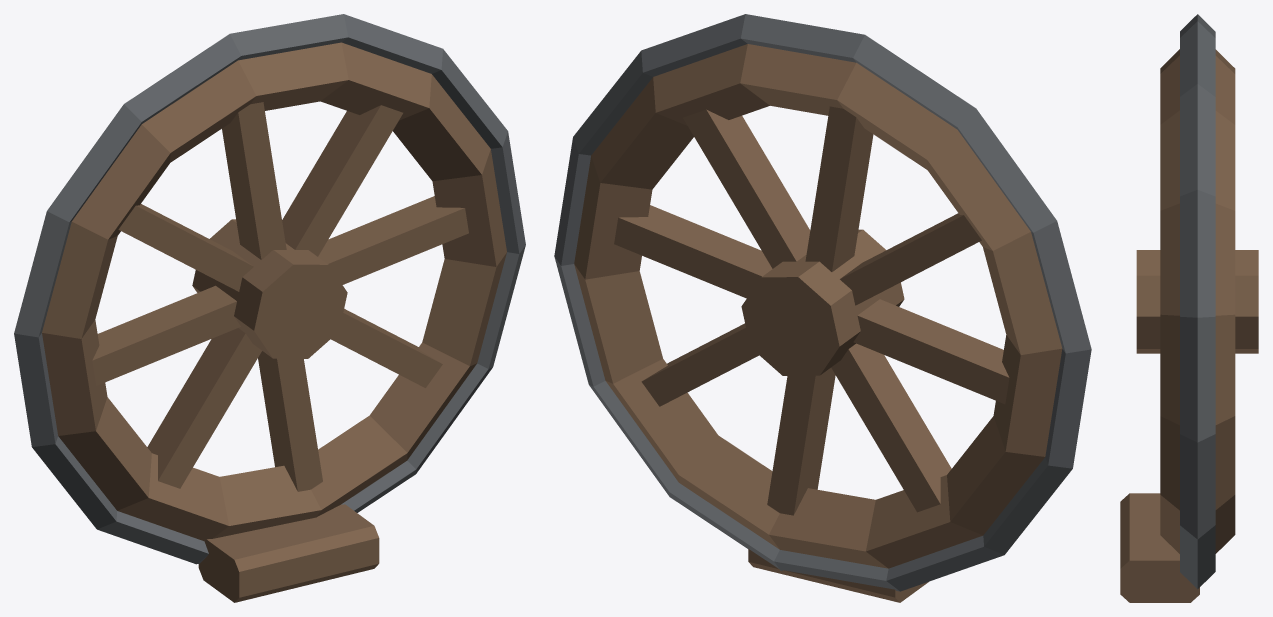
Rendered from cartwheel.glb.
3 renders of one model, left to right at view 1: azimuth 30°, elevation 25°; view 2: azimuth 150°, elevation 25°; view 3: azimuth 270°, elevation 25°, orthographic. The views are drawn at different scales.
Visible parts, largest first — view 1: cartwheel; view 2: cartwheel; view 3: cartwheel.
Part boxes in pixels (x1,y1,x2,y2): cartwheel: (14,14,525,602); cartwheel: (554,14,1091,602); cartwheel: (1120,14,1258,602).
Bounding box in the file's own units: 1.24 × 1.25 × 0.295.
